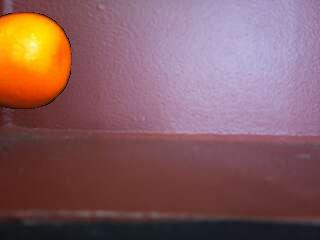Orange: (0, 12, 70, 110)
